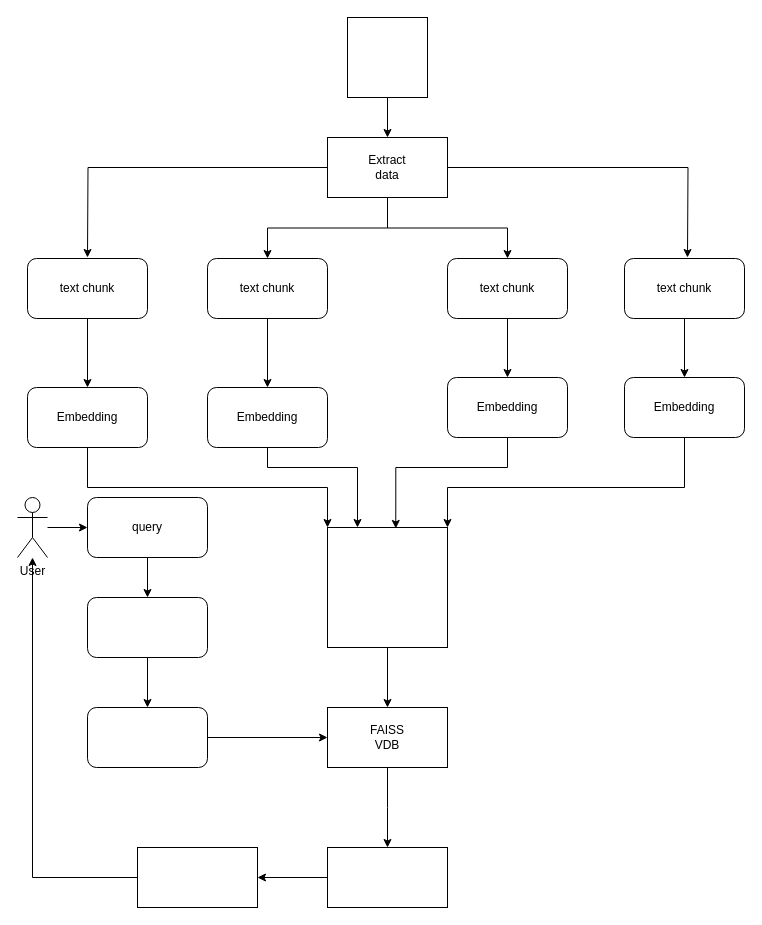
Some shapes in this 762 by 925 pixel diagram are drawn without their labels. The centre of each missing label's shape, as x and y in pixels:
"Build sementic Index" belongs at pixel 387 587.
"LLM" belongs at pixel 197 877.
"Pdf Files" belongs at pixel 387 57.
"Query embedding" belongs at pixel 147 627.
"Ranked Result" belongs at pixel 387 877.
"semetic Search" belongs at pixel 147 737.
